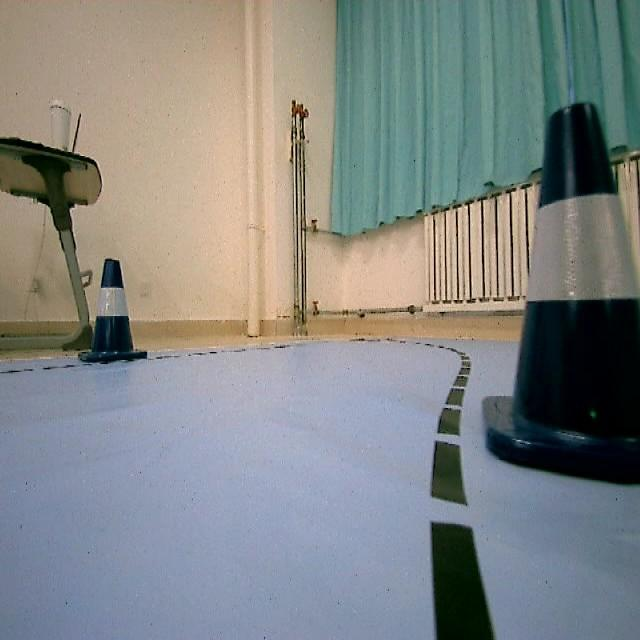obstacle: (481, 103, 640, 478), (80, 256, 148, 364)
